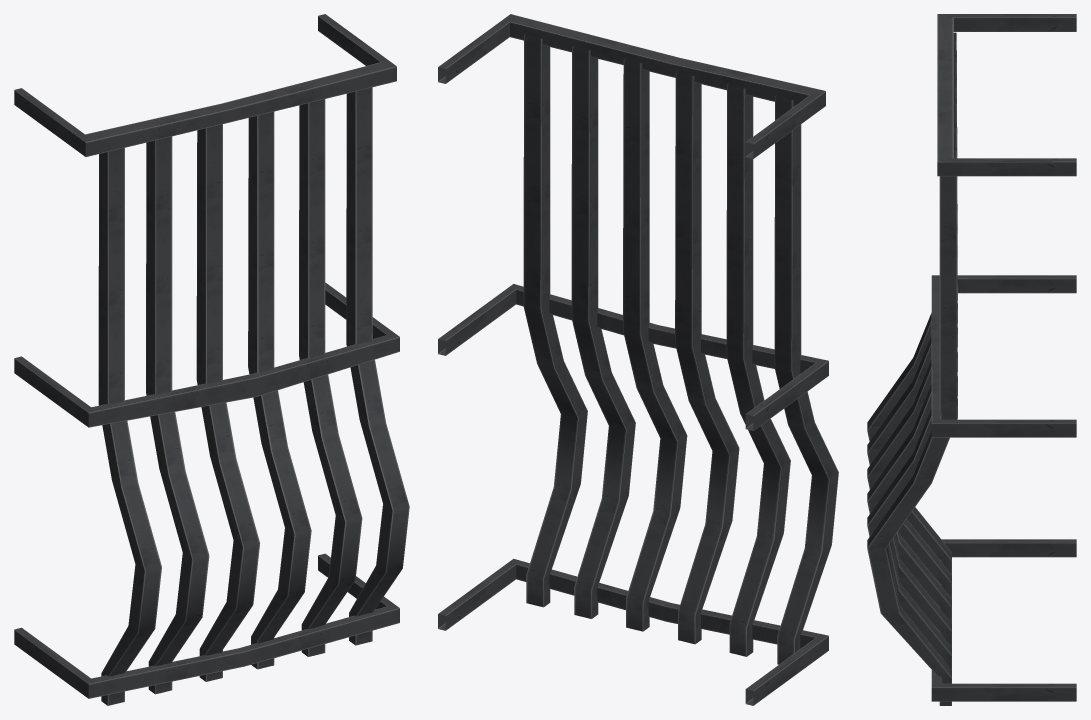
The model's file is MOD_WindowBar_03_01.fbx.
3 renders of one model, left to right at view 1: azimuth 30°, elevation 25°; view 2: azimuth 150°, elevation 25°; view 3: azimuth 270°, elevation 25°, orthographic. The views are drawn at different scales.
Parts seen in each view (by area): view 1: MOD_WindowBar_03_01; view 2: MOD_WindowBar_03_01; view 3: MOD_WindowBar_03_01.
Part boxes in pixels (x1,y1,x2,y2): MOD_WindowBar_03_01: (14, 14, 409, 705); MOD_WindowBar_03_01: (438, 14, 838, 705); MOD_WindowBar_03_01: (867, 14, 1076, 705).
Bounding box in the file's own units: 122 × 213 × 73.01.
